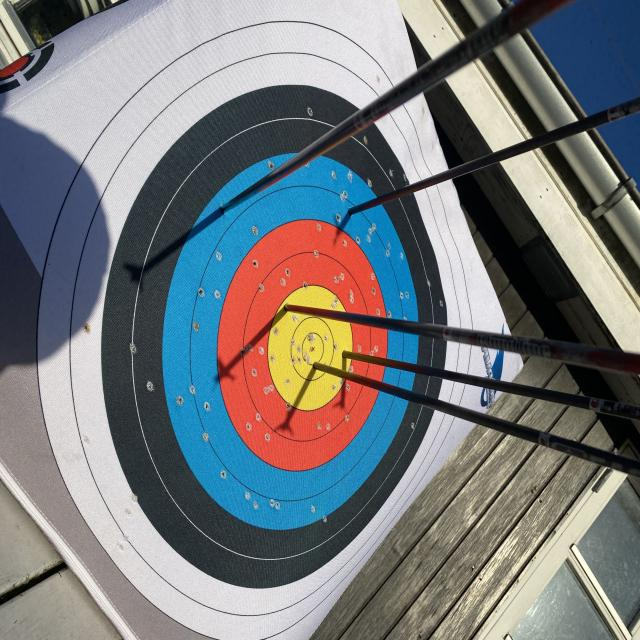Arrow_Blue: (242, 152, 298, 213), (343, 180, 378, 241)
Arrow_Yellow: (332, 328, 372, 369), (296, 347, 330, 383), (275, 292, 307, 328)
